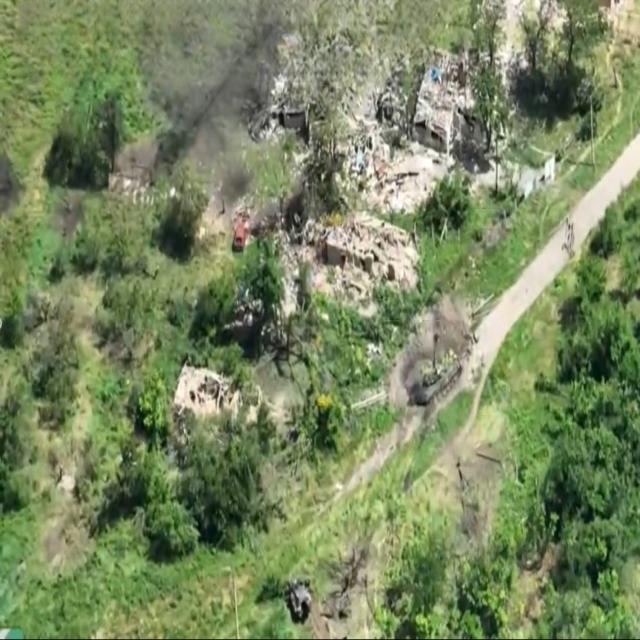MBT: (412, 340, 465, 408)
Vehicle: (288, 576, 313, 625), (232, 224, 250, 255)
